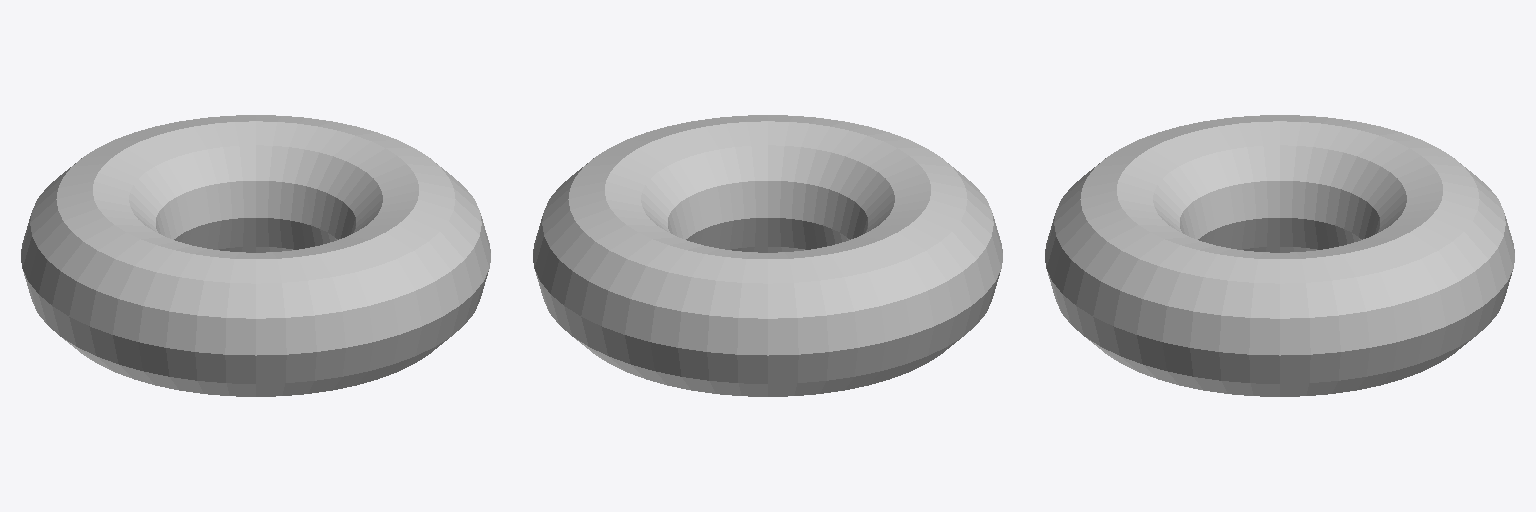
File: halfshinytorus.obj
3 renders of one model, left to right at view 1: azimuth 30°, elevation 25°; view 2: azimuth 150°, elevation 25°; view 3: azimuth 270°, elevation 25°, orthographic.
Visible parts, largest first — view 1: Torus; view 2: Torus; view 3: Torus.
Boxes of the visible parts, box(x1,y1,x2,y2) form: Torus: box(21, 115, 490, 396); Torus: box(533, 115, 1002, 396); Torus: box(1045, 115, 1514, 396).
Bounding box in the file's own units: 2.89 × 0.888 × 2.89.